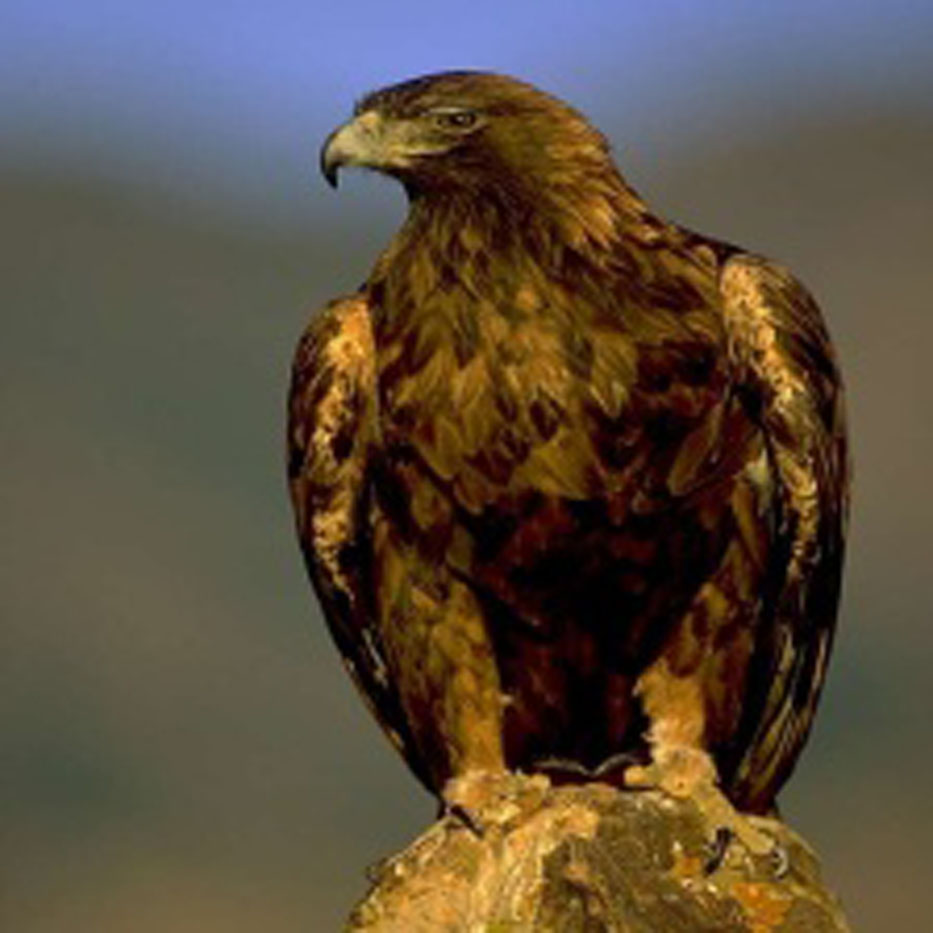Pengoyak Daging: (306, 111, 380, 208)
